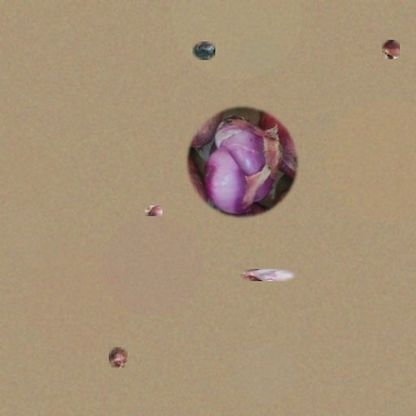damaged: (184, 104, 301, 220)
rotten: (240, 269, 297, 281), (193, 41, 215, 60), (109, 347, 128, 368)
sprouted: (382, 40, 400, 59), (145, 206, 163, 216)
